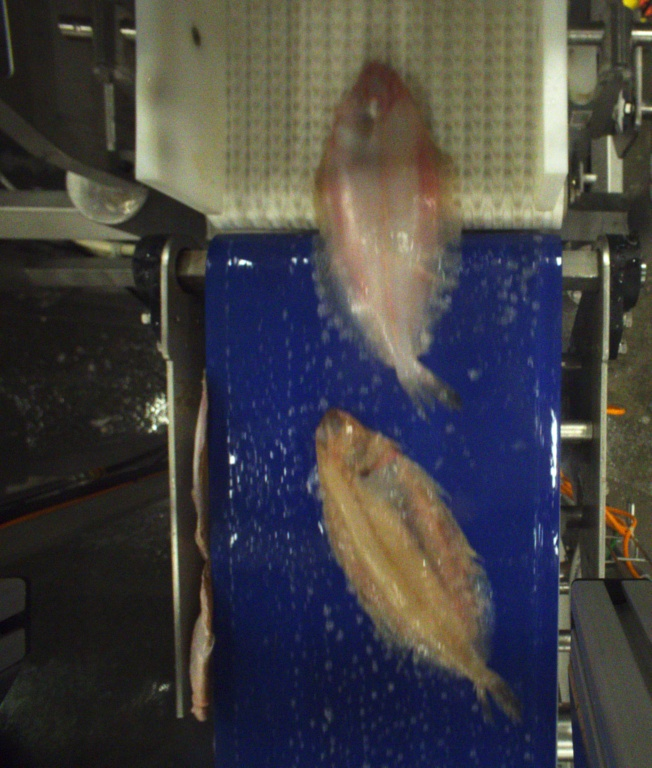WIT: (313, 406, 520, 729)
